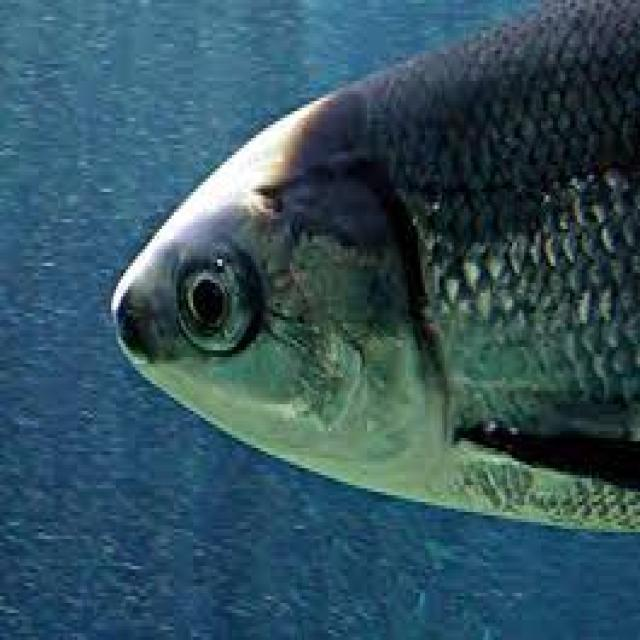Bangus: (102, 0, 640, 554)
